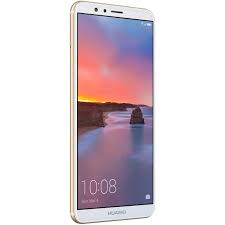huawei: (65, 1, 159, 223)
